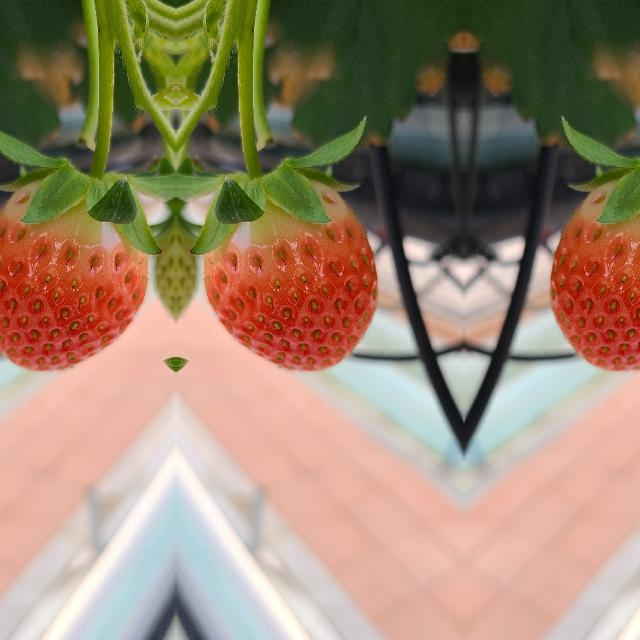Health_100: (202, 180, 376, 370), (0, 180, 148, 370), (550, 180, 640, 370)
